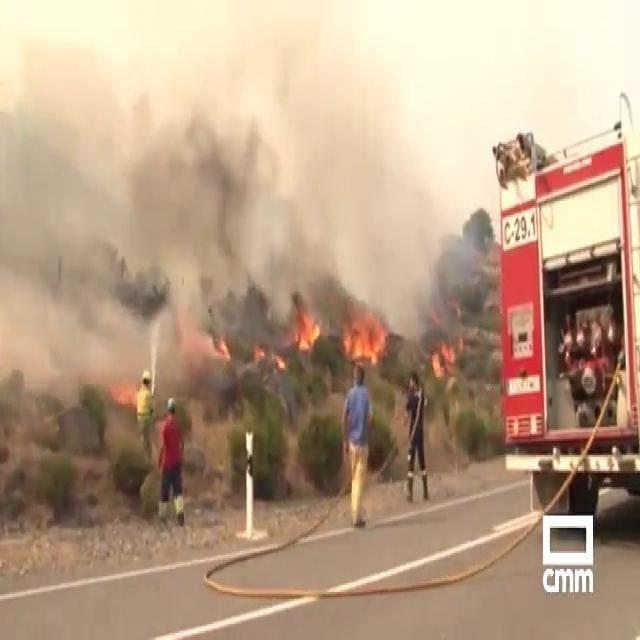Fire: (342, 300, 388, 372), (290, 303, 326, 360)
Smoke: (0, 0, 485, 354)
